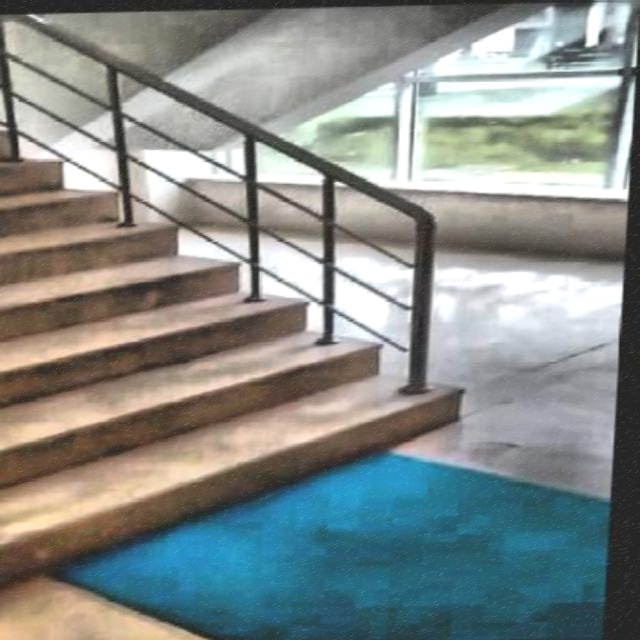stair: (1, 44, 514, 628)
